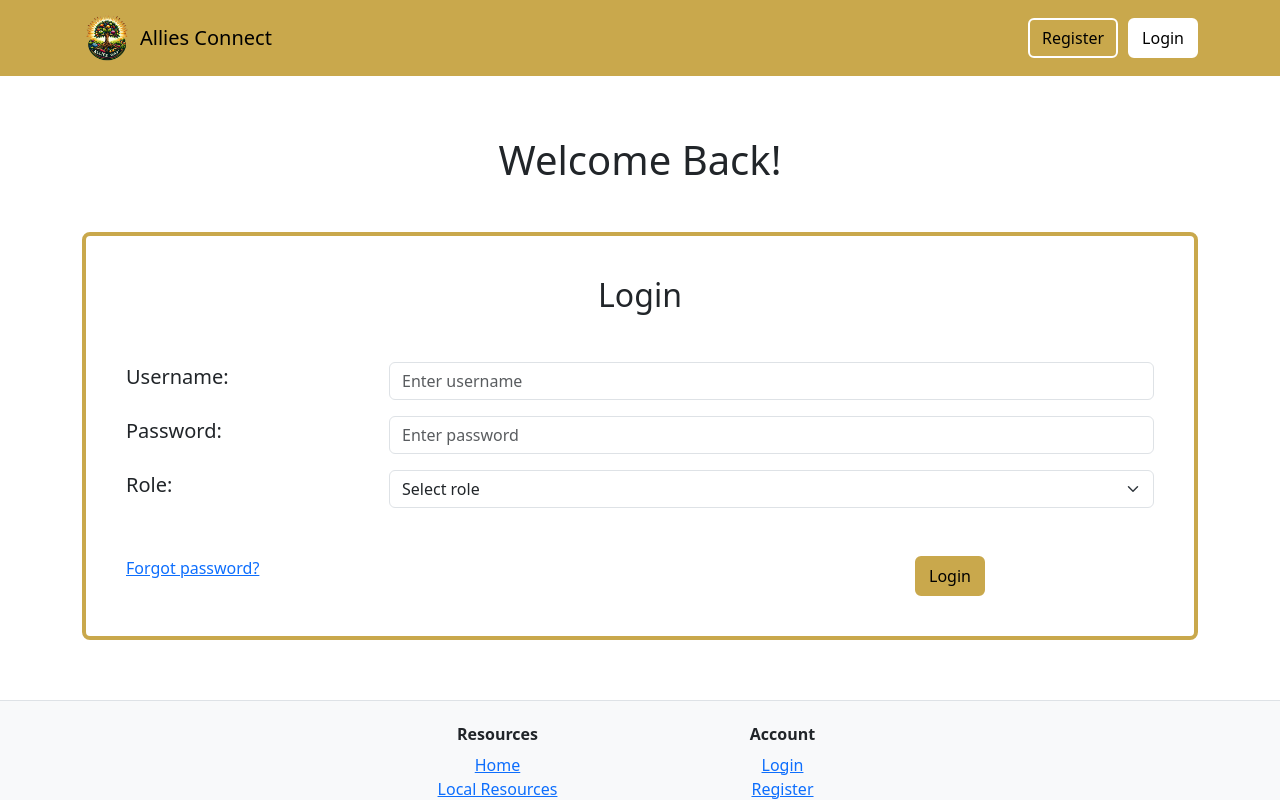
Test: Admin Approve Organization Flow › allows an admin to log in, view pending organizations, and approve one
// Fill out the authentication form
In the field named "username": (772, 381) [389, 362, 1154, 400], type "admin_user"
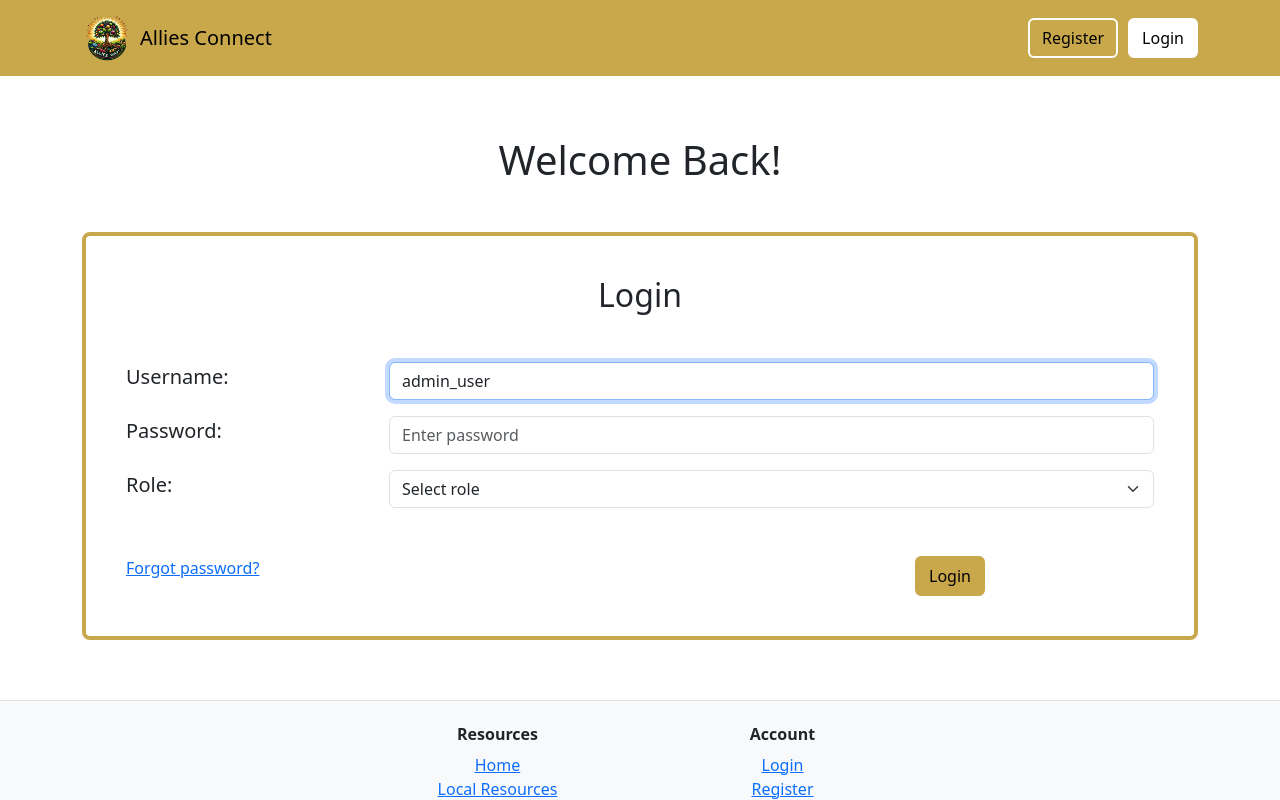
In the password field named "password": (772, 435) [389, 416, 1154, 454], type "Password123!"
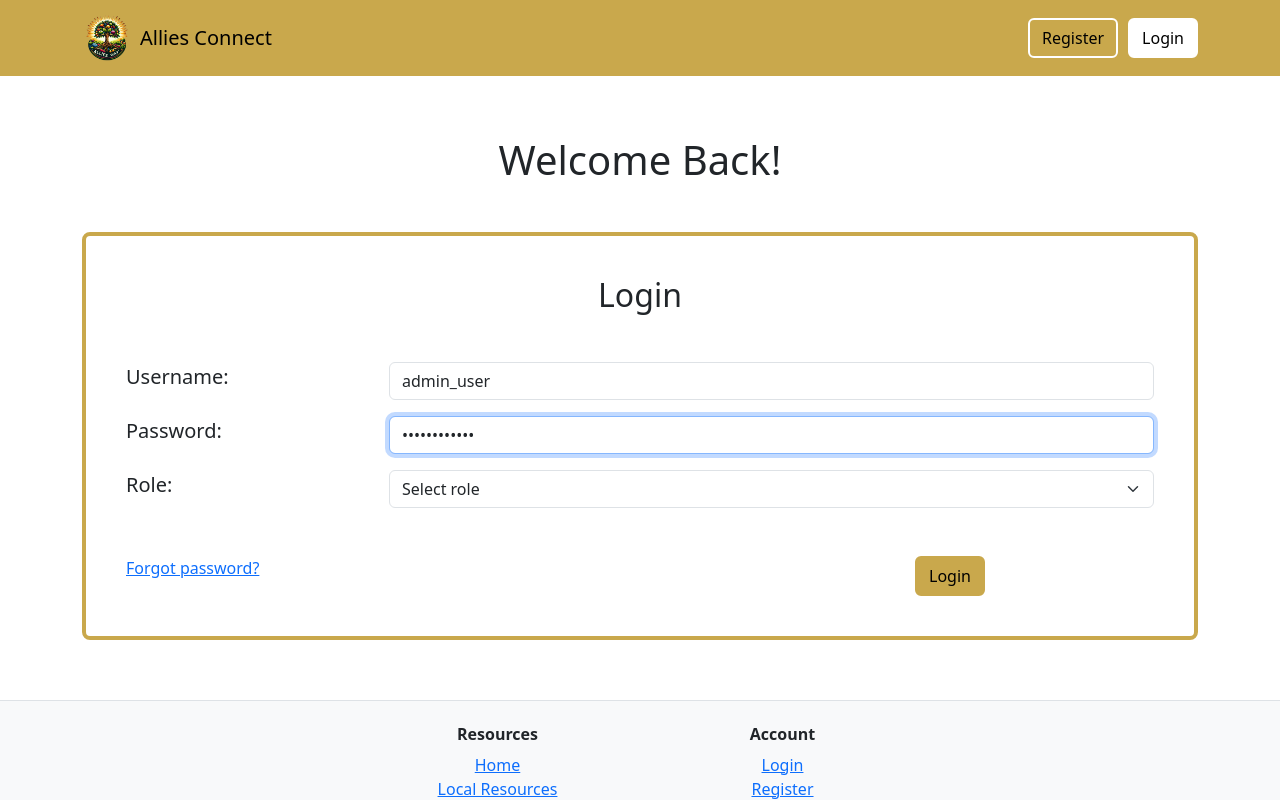
Select "Admin" in the dropdown: (772, 489) [389, 470, 1154, 508]
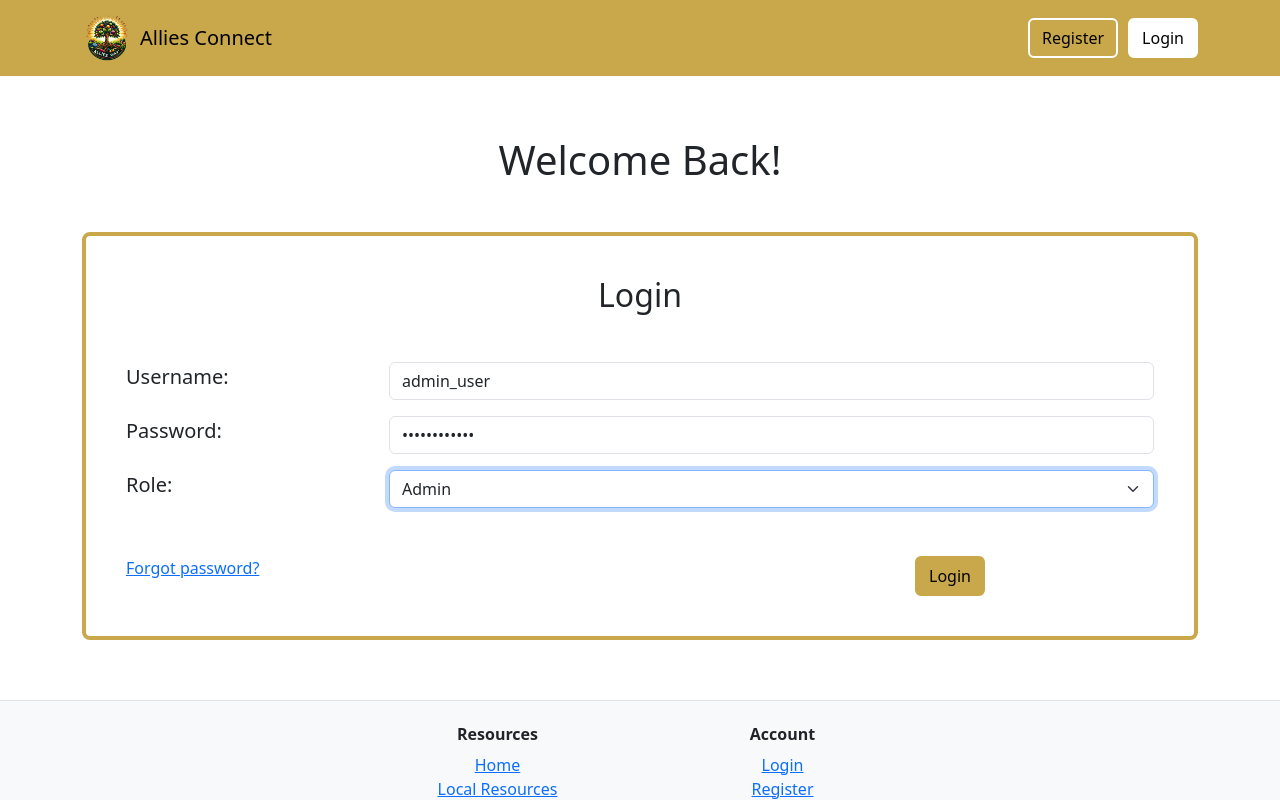
Click the button "Login" in the row of "Forgot password?": (950, 576) [915, 556, 985, 596]
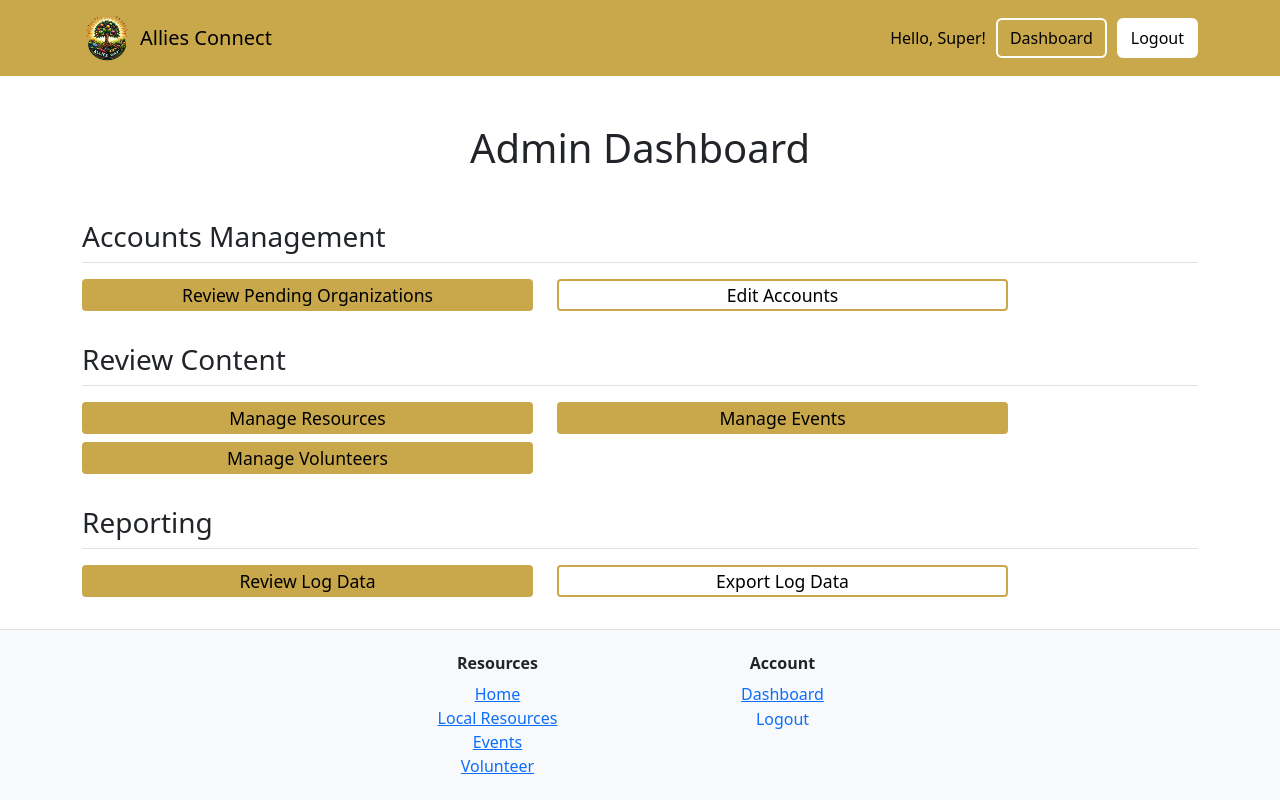
// Click the "Review Pending Organizations" button
Click the button "Review Pending Organizations": (308, 295) [82, 279, 533, 311]
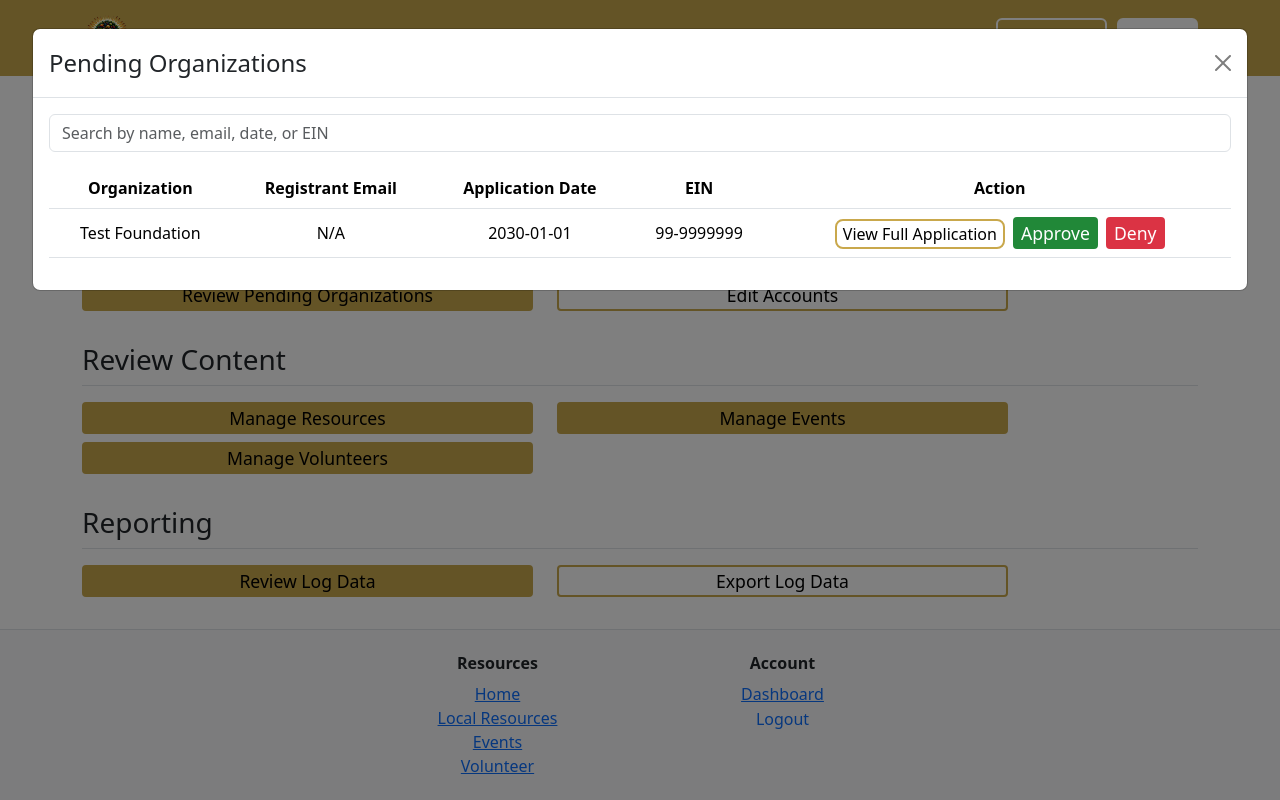
Check: the dialog with class "modal" is shown, box [32, 28, 1248, 291]
Check: the text "Test Foundation" is shown, box [49, 208, 232, 258]
Check: the text "99-9999999" is shown, box [630, 208, 768, 258]
// Click the "Approve" button
Click the button "Approve": (1056, 233) [1013, 217, 1098, 249]
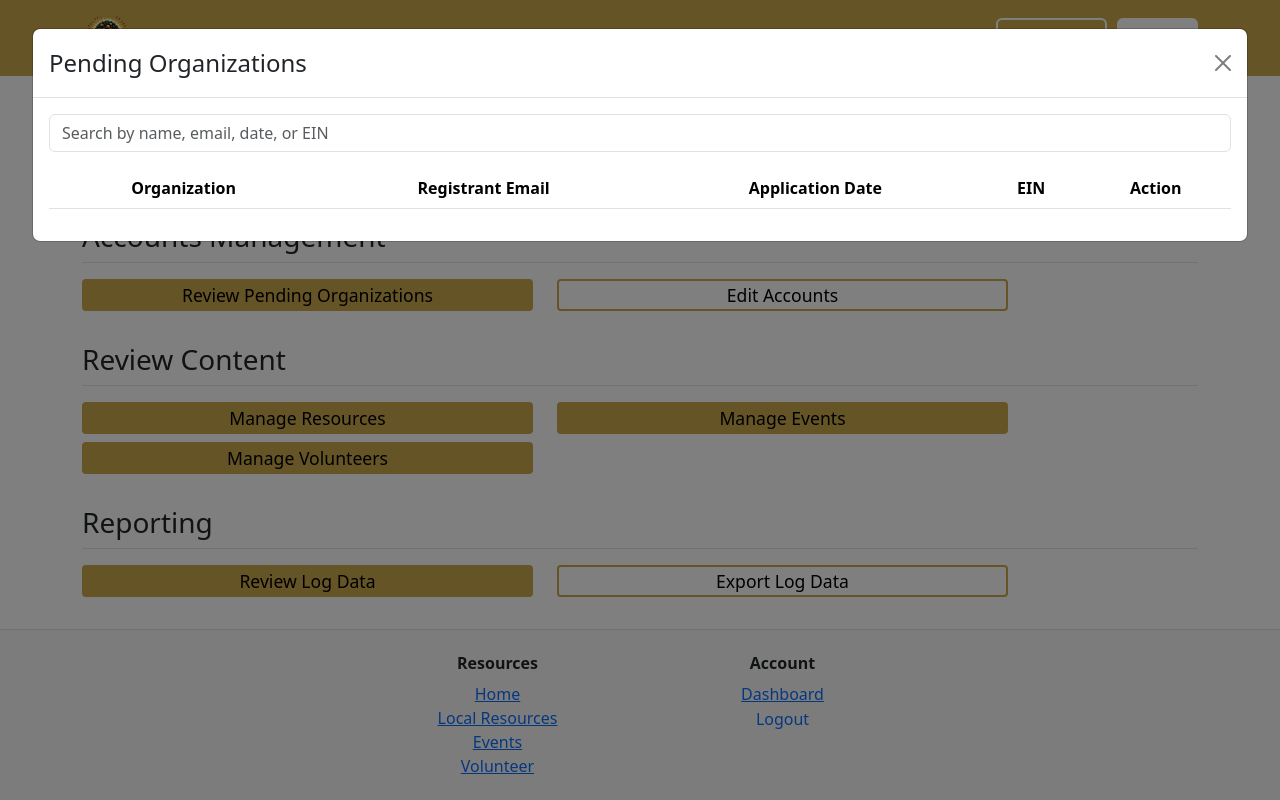
Check: the text "Test Foundation" is gone
